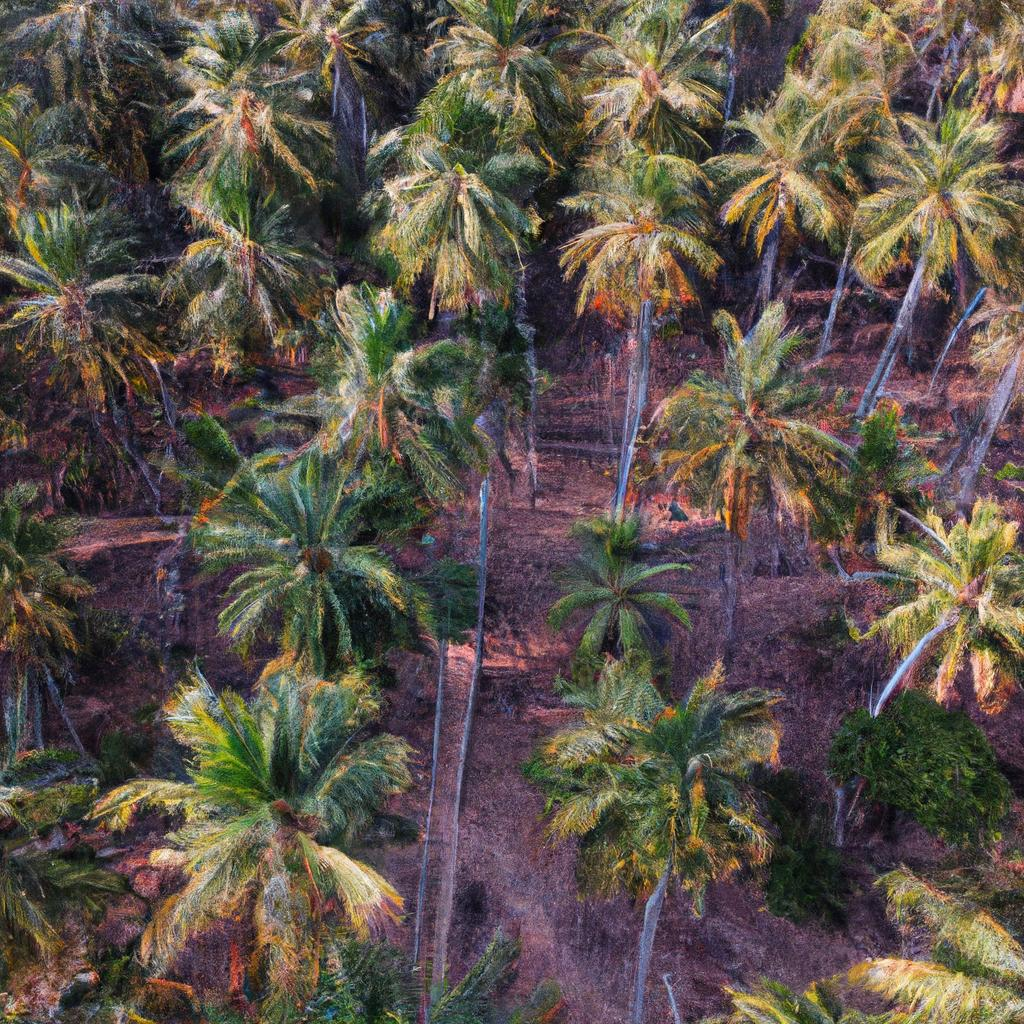coconut_tree: (119, 628, 459, 1001), (154, 407, 454, 664), (647, 299, 874, 554), (525, 709, 817, 896), (862, 480, 1023, 734), (368, 120, 546, 329), (851, 97, 1023, 307), (557, 153, 733, 332), (0, 188, 149, 377), (538, 505, 708, 669), (157, 177, 314, 345), (728, 85, 866, 248), (162, 64, 330, 196)
